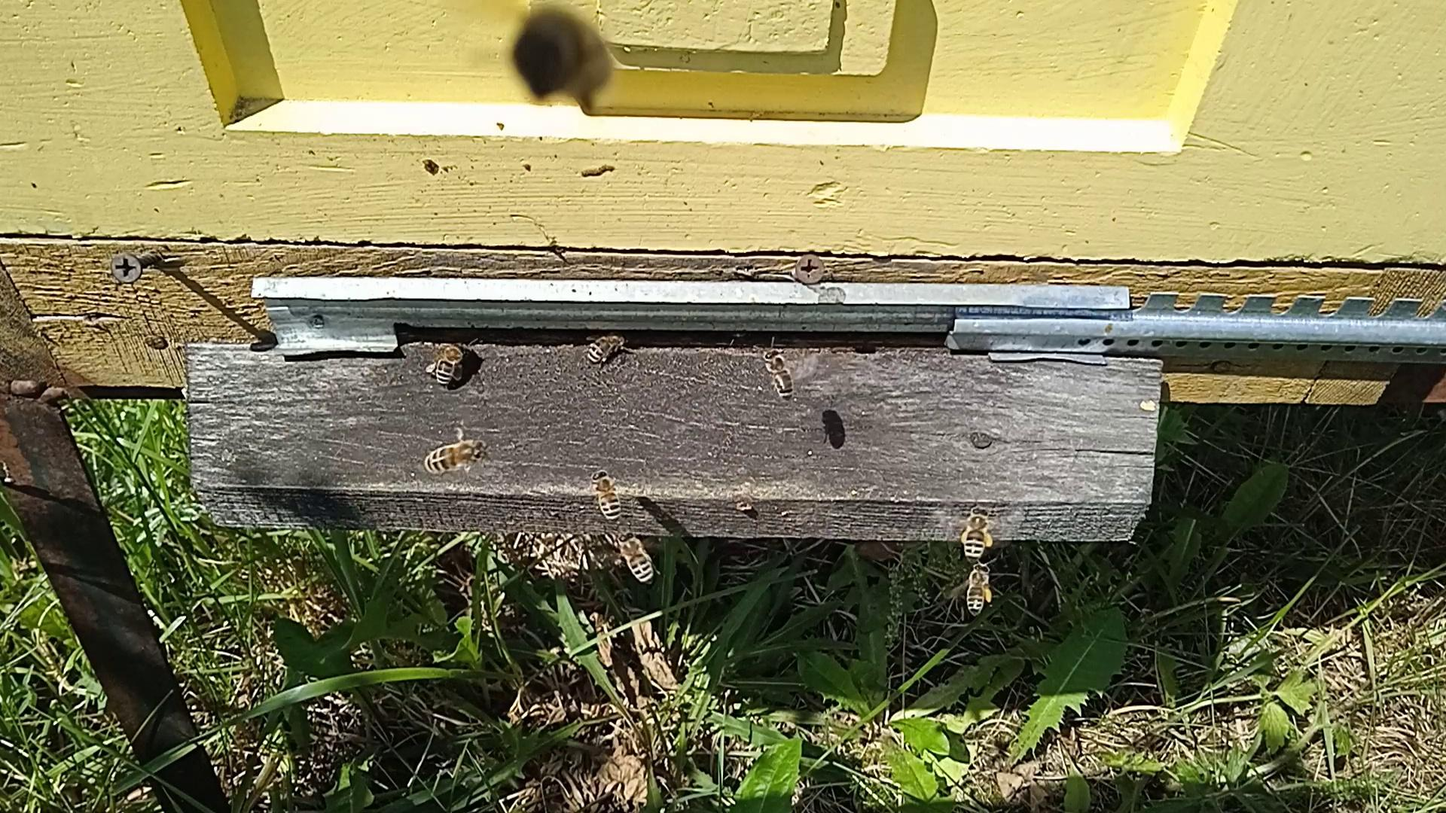worker-bee: (422, 438, 488, 477), (615, 531, 656, 585), (959, 506, 994, 561), (429, 340, 469, 387), (763, 347, 795, 402), (590, 469, 622, 522), (965, 562, 992, 616), (585, 331, 628, 364)
